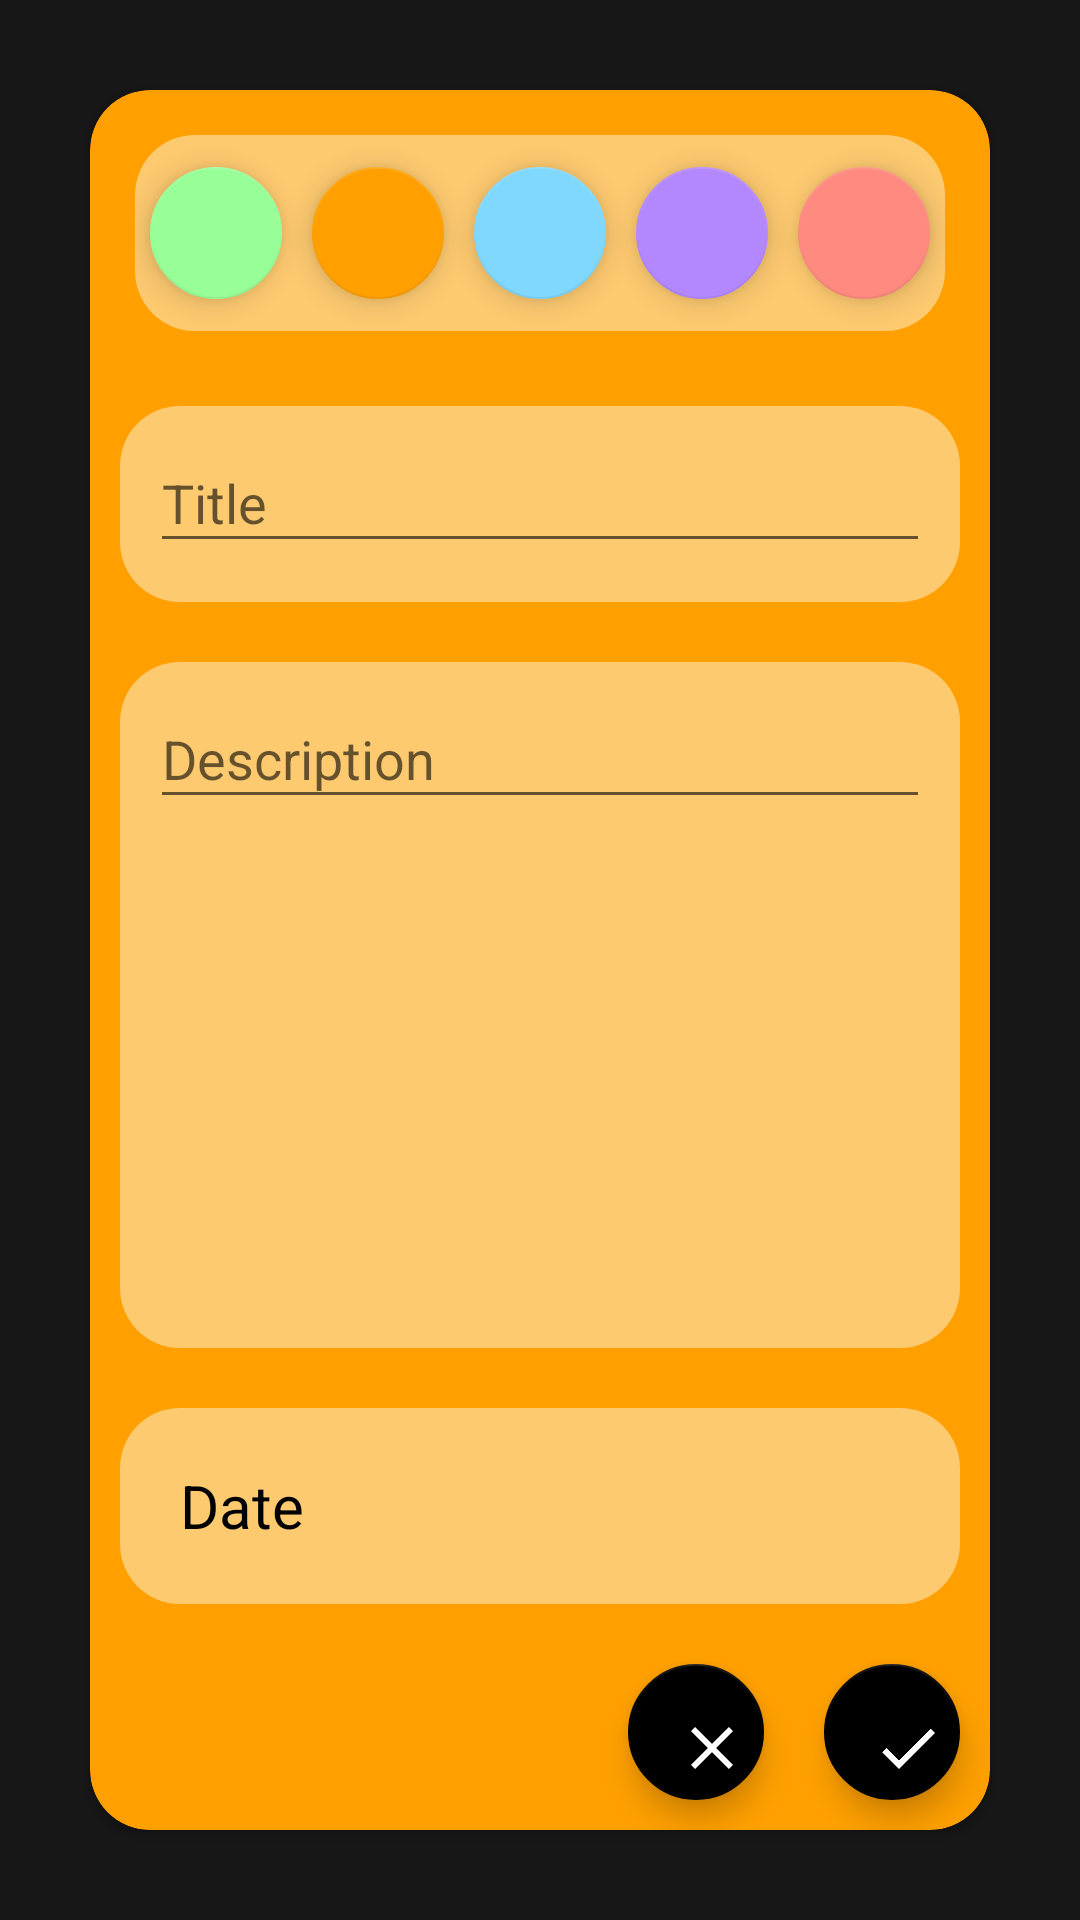

Point at icon controls on the screen. Image size 1080 × 1920, points as (x,y).
check: (892,1732)
clear: (696,1732)
